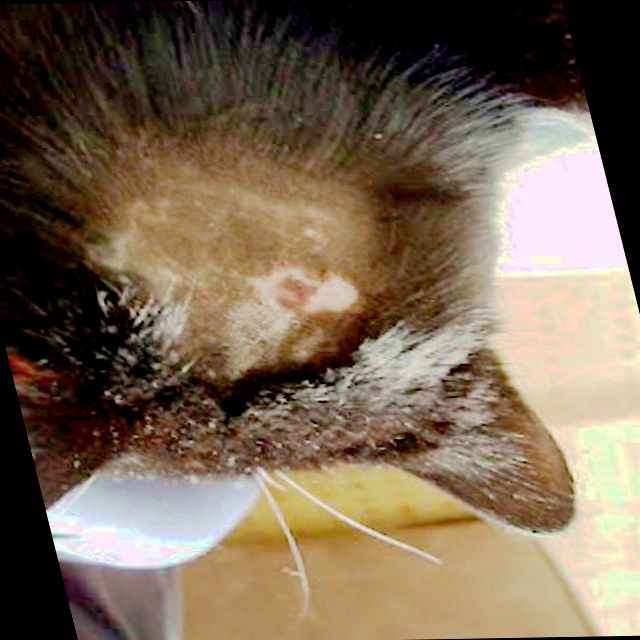ringworm: (253, 261, 374, 326)
